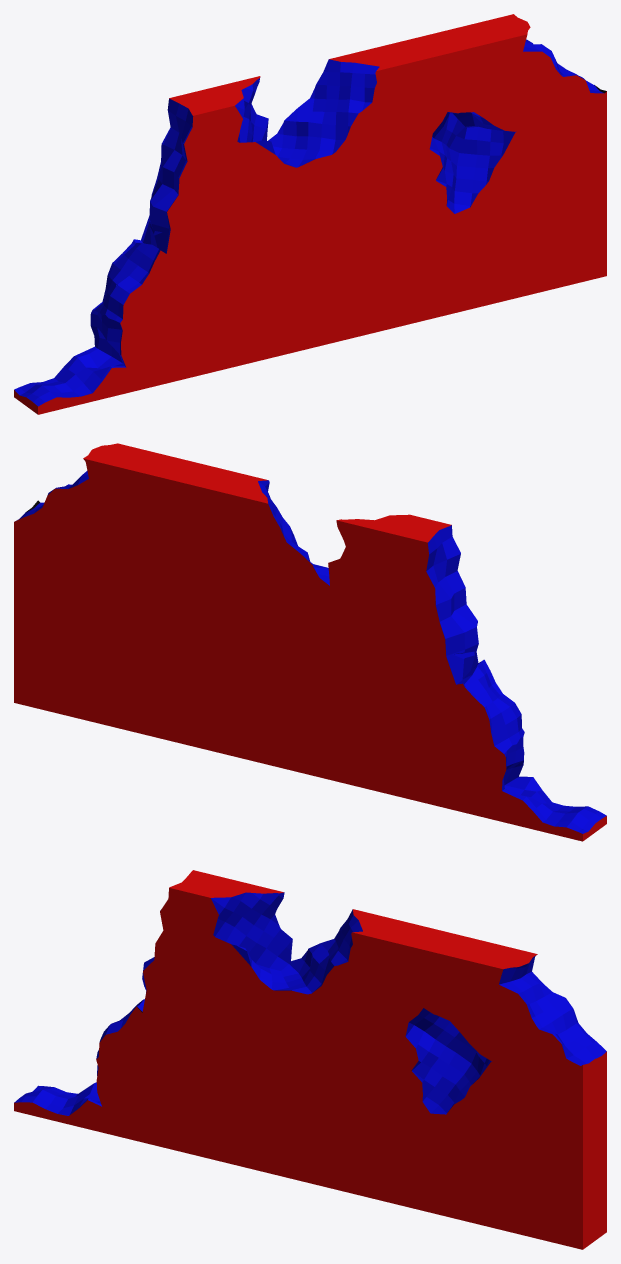
File: broken walls3.fbx
3 views of the same model, one above another, from view 1: azimuth 30°, elevation 25°; view 2: azimuth 150°, elevation 25°; view 3: azimuth 330°, elevation 25° (orthographic).
Parts seen in each view (by area): view 1: wall.003; view 2: wall.003; view 3: wall.003.
Part boxes in pixels (x1,y1,x2,y2): wall.003: (14,14,606,414); wall.003: (14,443,606,841); wall.003: (14,870,606,1249).
Bounding box in the file's own units: 12.43 × 5.45 × 0.9143.
